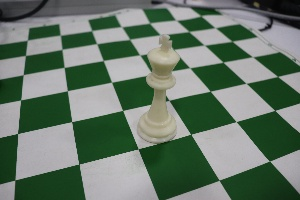white_king: (136, 21, 183, 146)
